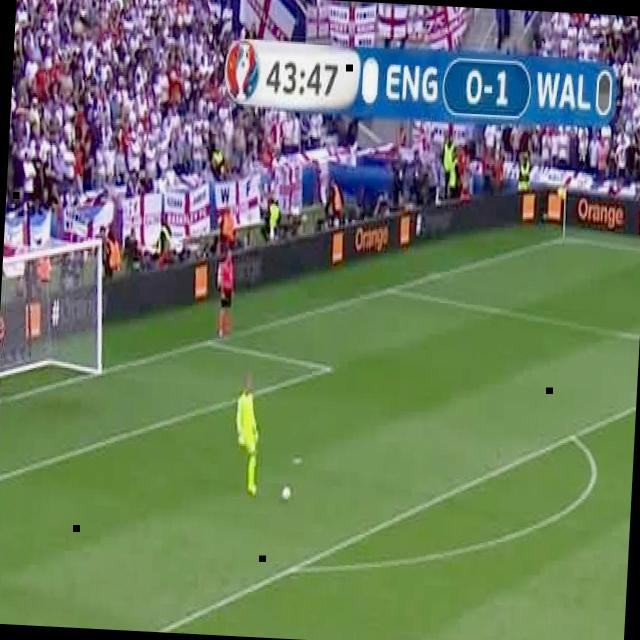ball: (281, 484, 292, 504)
player-white: (232, 376, 263, 498), (217, 248, 236, 340)
